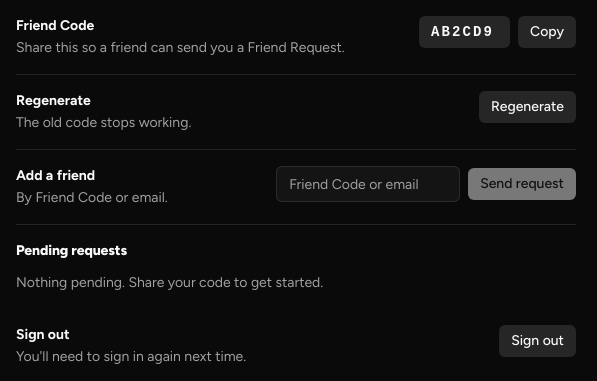
it: Settings › states the consequence before Regenerate acts, then requires a second click to confirm
Expected: the text "AB2CD9" is shown, [419,16,510,48]
Expected: the text "The old code stops working." is shown, [16,113,191,133]
Click the button "Regenerate". click: (527, 107)
box: [479,91,576,123]
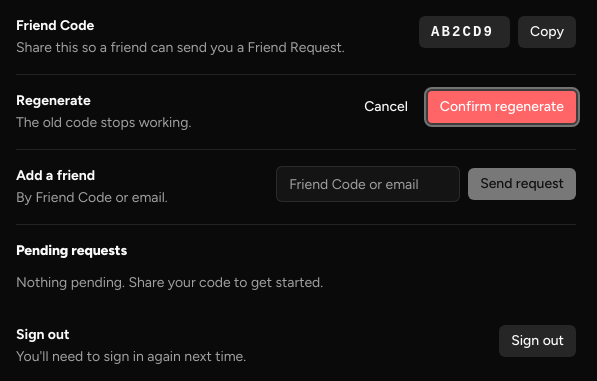
Expected: the button "Confirm regenerate" is shown
Click the button "Confirm regenerate". click: (502, 107)
box: [428,91,576,123]
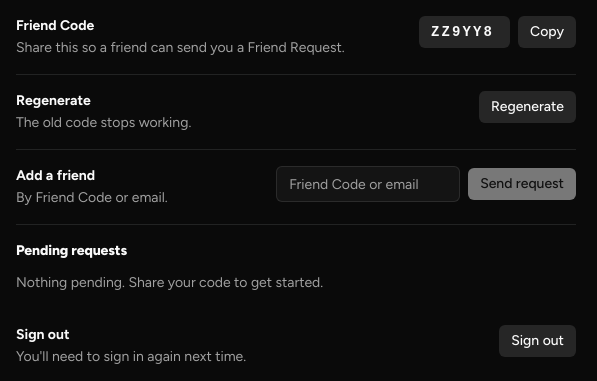
Expected: the text "ZZ9YY8" is shown, [419,16,510,48]
Expected: the text "AB2CD9" is gone
